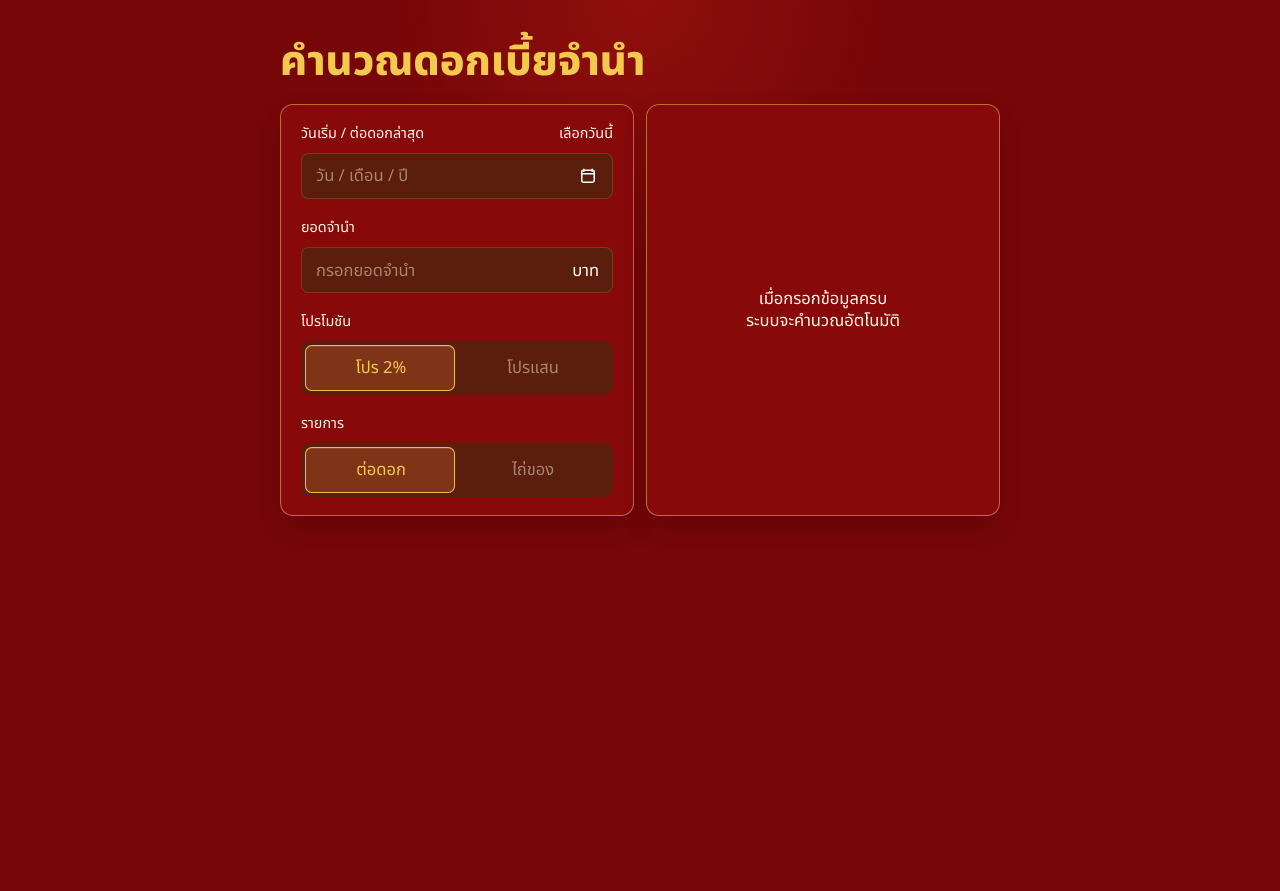
it: ManualCalculator › offers backward renewal for months 1 to 3 and days 1 to 7
The image size is (1280, 891).
Click the button with aria-label "วันเริ่ม / ต่อดอกล่าสุด". click: click(362, 176)
box: [301,153,613,199]
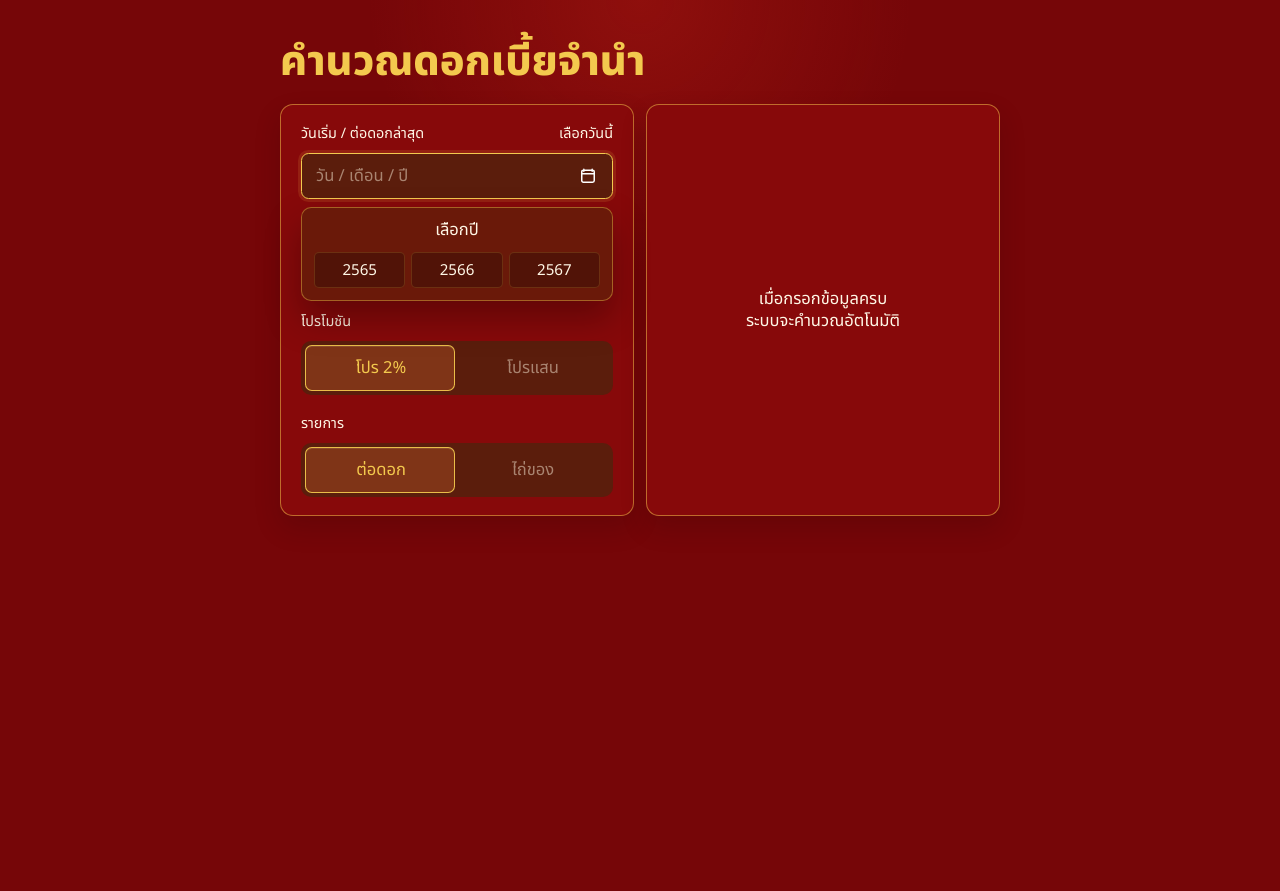
Click the button "2567". click: click(554, 270)
box: [509,252,600,288]
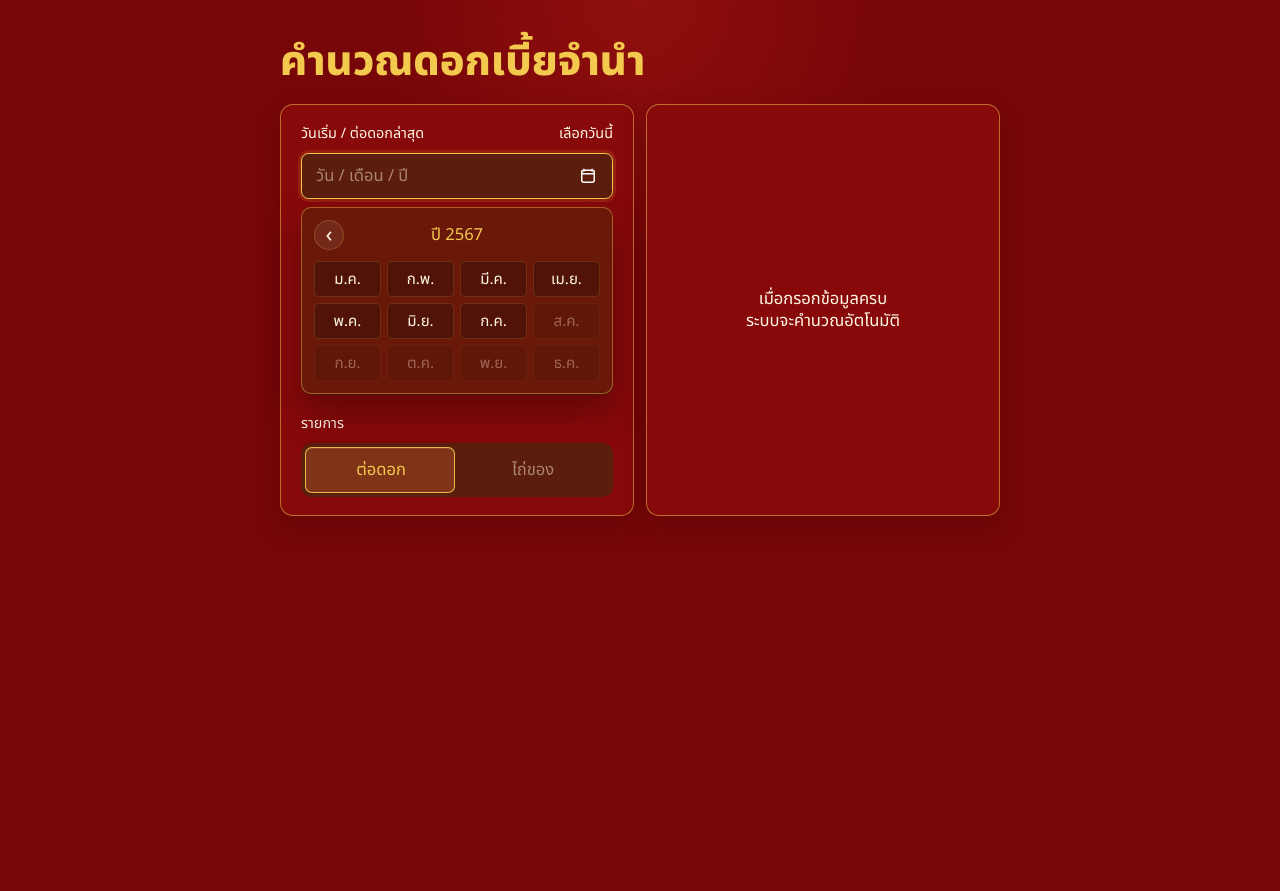
Click the button "มิ.ย.". click: click(420, 321)
box: [387,303,454,339]
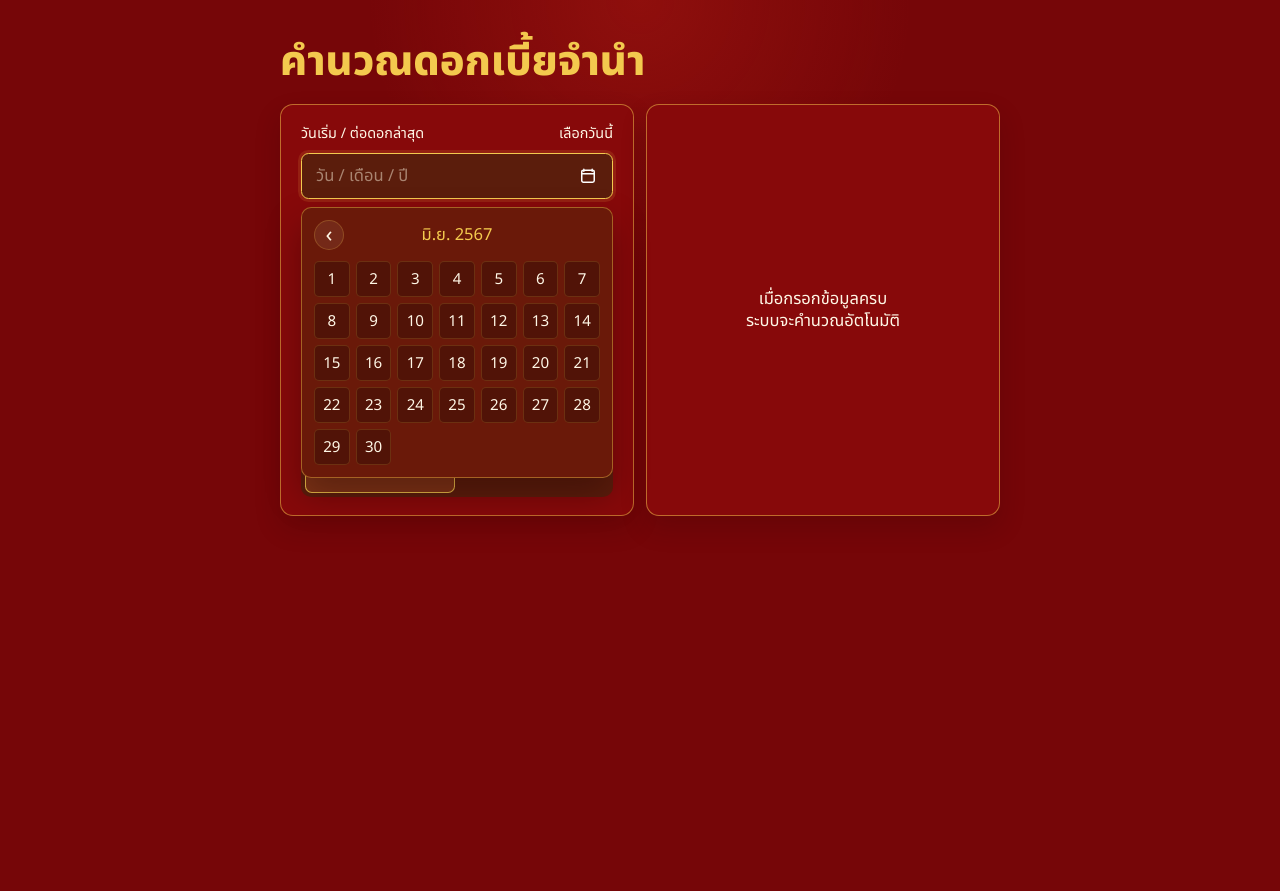
Click the button "10". click: click(415, 321)
box: [397,303,433,339]
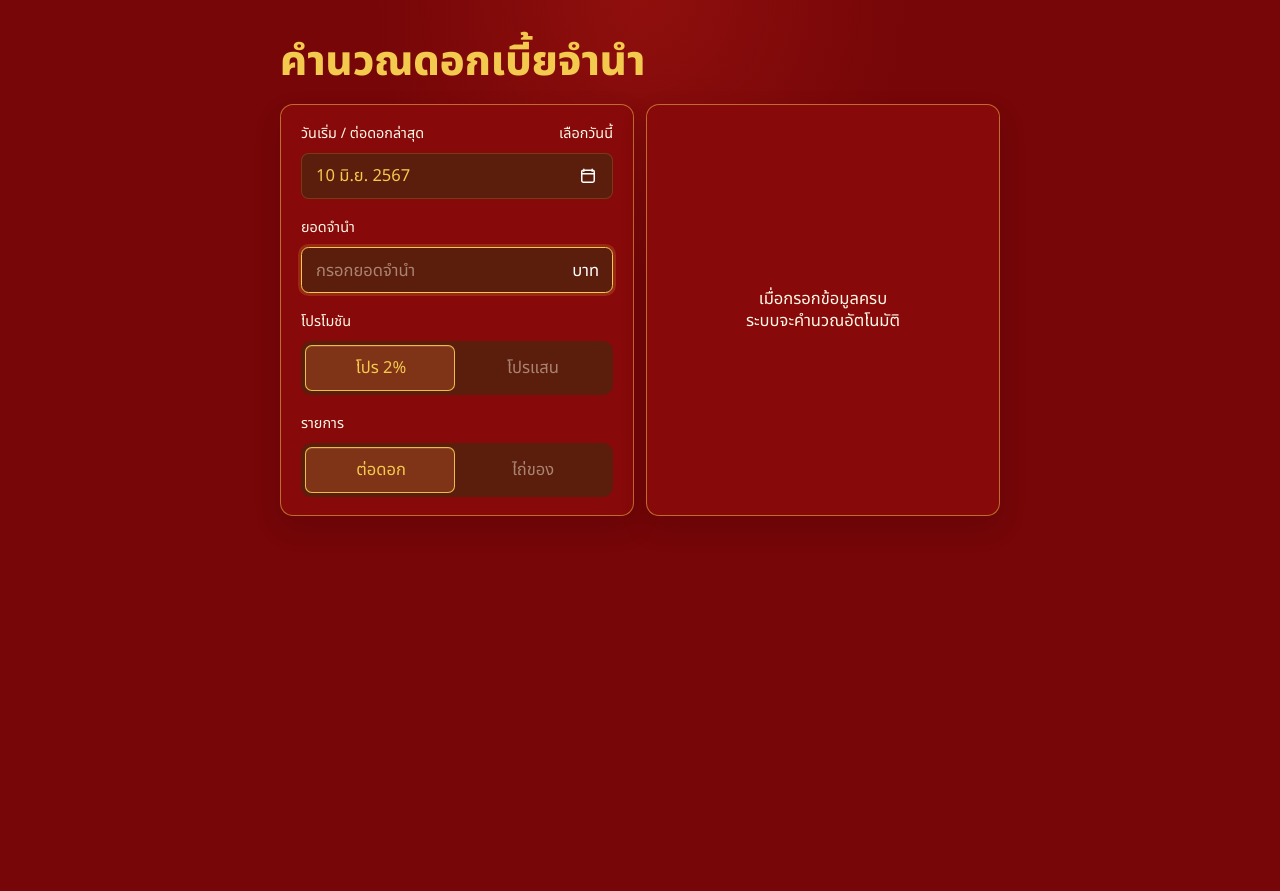
Type "10000" into the field labelled "ยอดจำนำ". click: (457, 270)
box: [301,247,613,293]
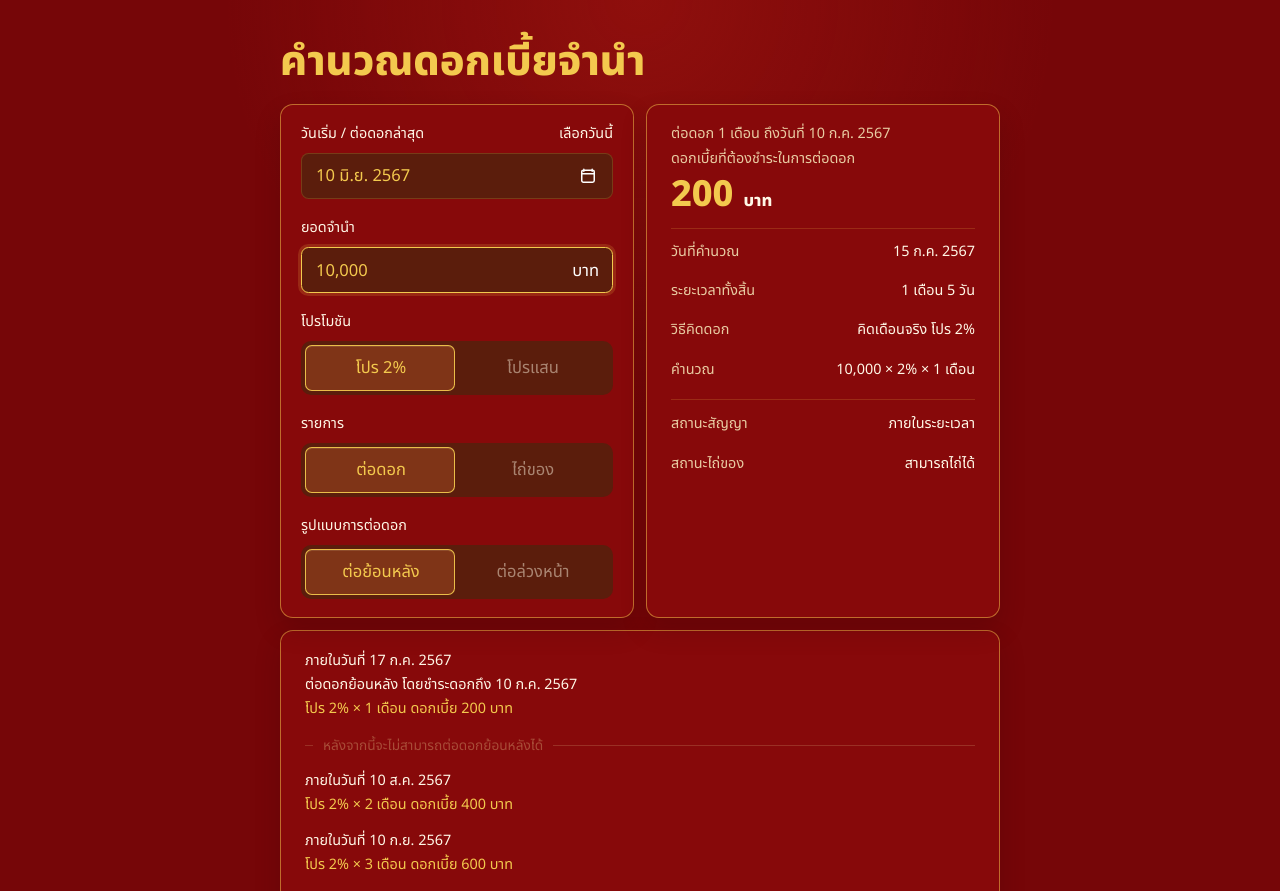
Result: the element named "รูปแบบการต่อดอก" is shown at [301,545,613,599]
Result: the text "ต่อดอก 1 เดือน ถึงวันที่ 10 ก.ค. 2567" is shown at [671,123,890,144]
Result: the text "10,000 × 2% × 1 เดือน" is shown at [836,359,975,380]
Click the radio button labelled "ต่อล่วงหน้า". click: click(533, 572)
box: [457,549,609,595]
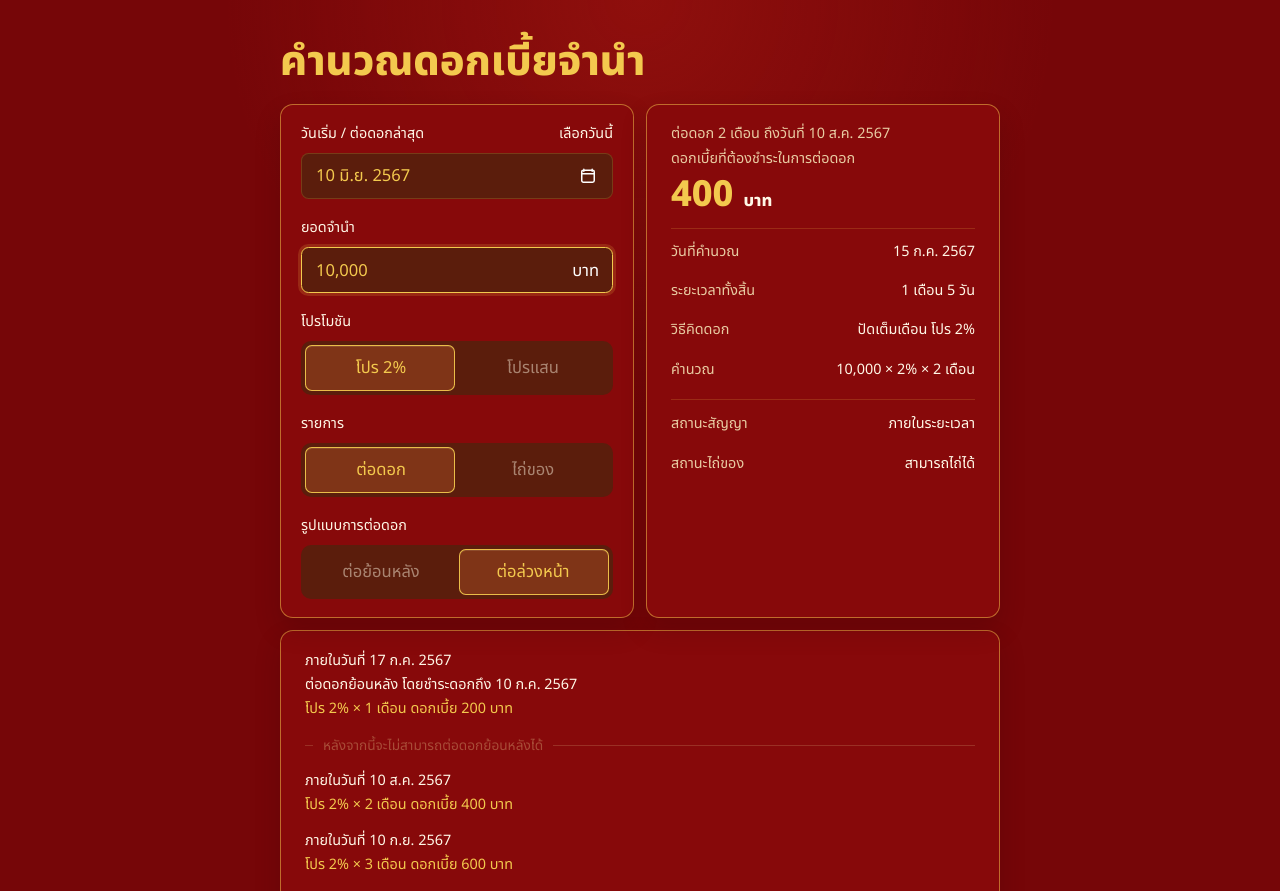
Result: the text "โปร 2% × 2 เดือน ดอกเบี้ย 400 บาท" is shown at [305,794,513,815]
Result: the text "ต่อดอก 2 เดือน ถึงวันที่ 10 ส.ค. 2567" is shown at [671,123,890,144]
